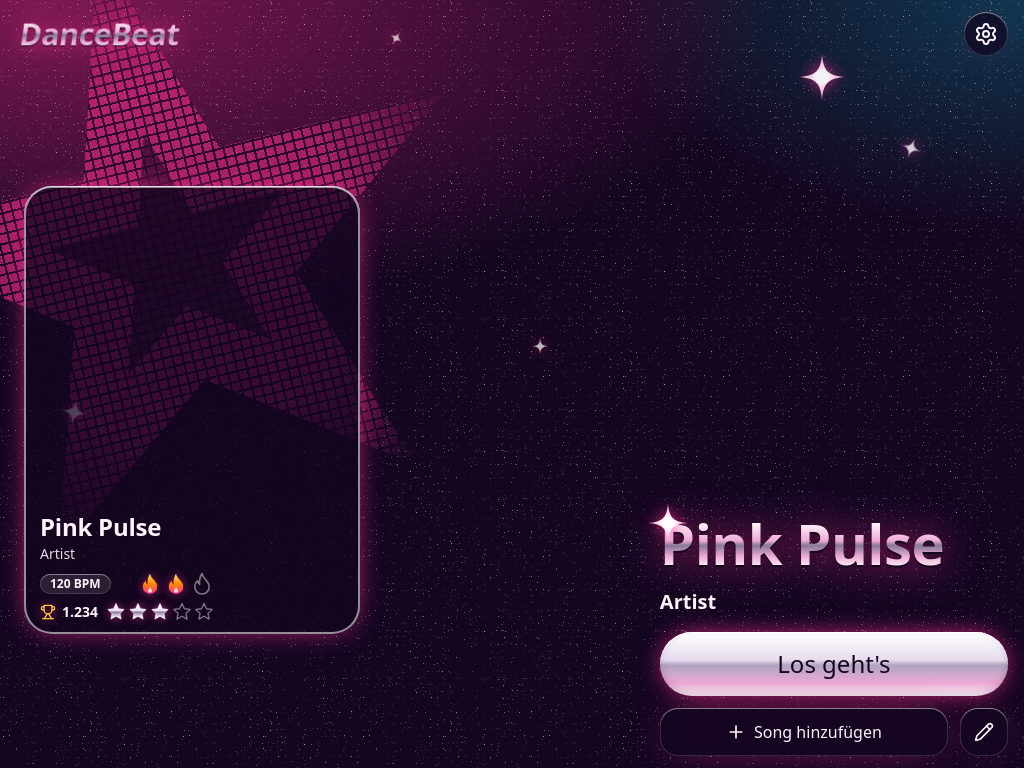
Test case: Regenerate choreography in the edit dialog › offers three difficulties, preset to the song's
Click the button named "Song bearbeiten": x=984, y=732 [960,708,1008,756]
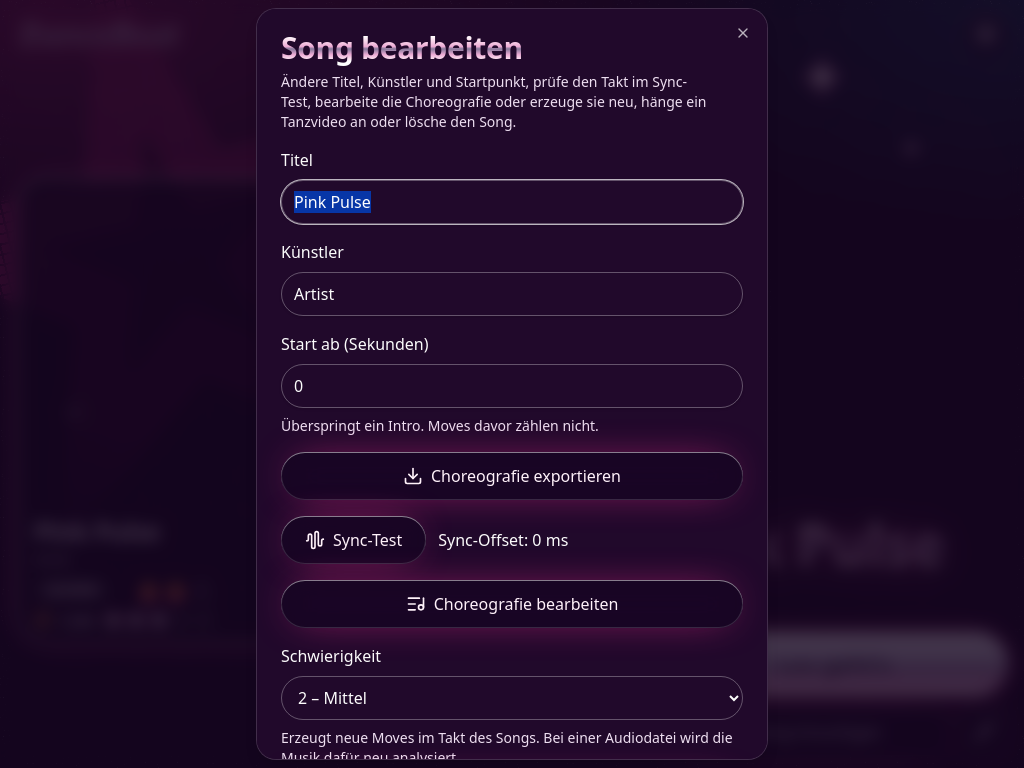
expect the dropdown labelled "Schwierigkeit" shows "2 – Mittel": met, box [281,676,743,720]
